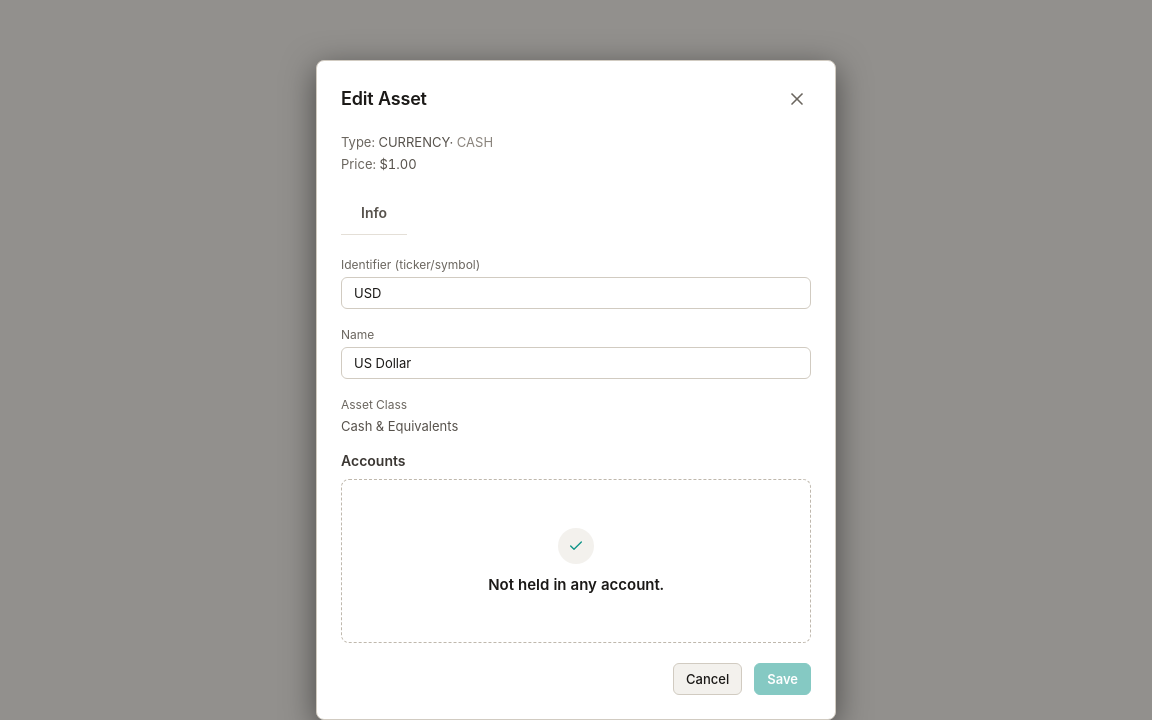
AssetEditModal › enables Save when name is changed
The width and height of the screenshot is (1152, 720).
Replace the text in the field showing "US Dollar" with "Renamed" at (576, 363), box [341, 347, 811, 379]
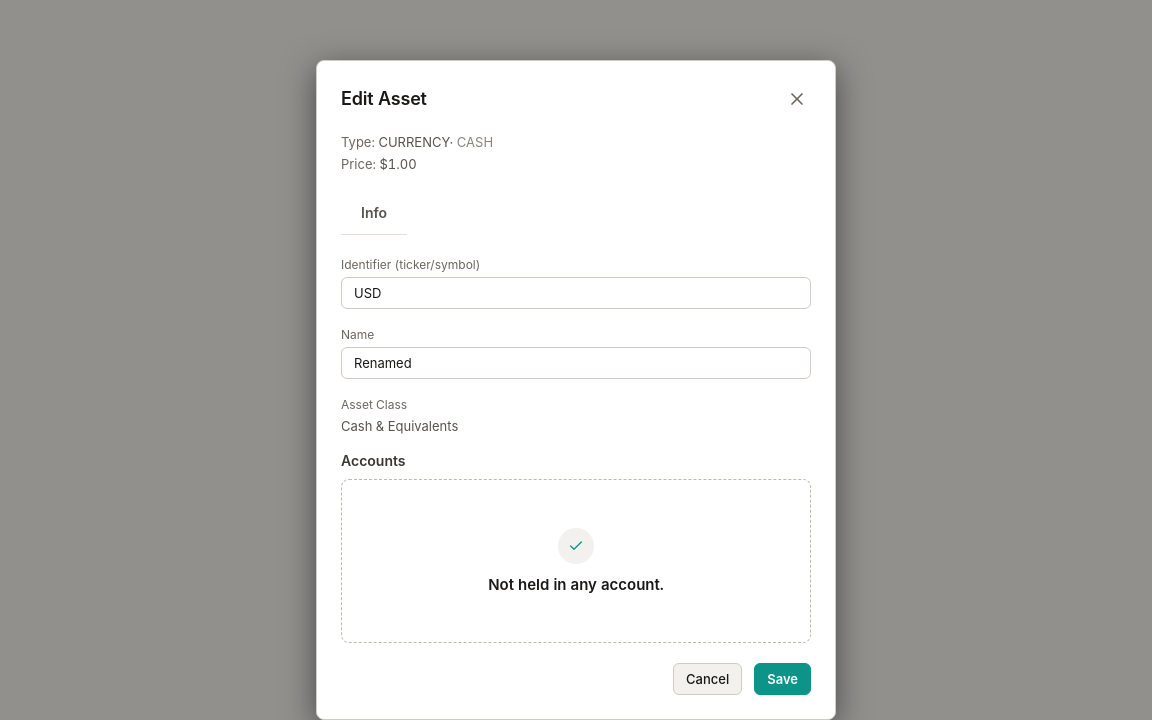
Expected: the button "Save" is enabled, [754, 663, 811, 695]
